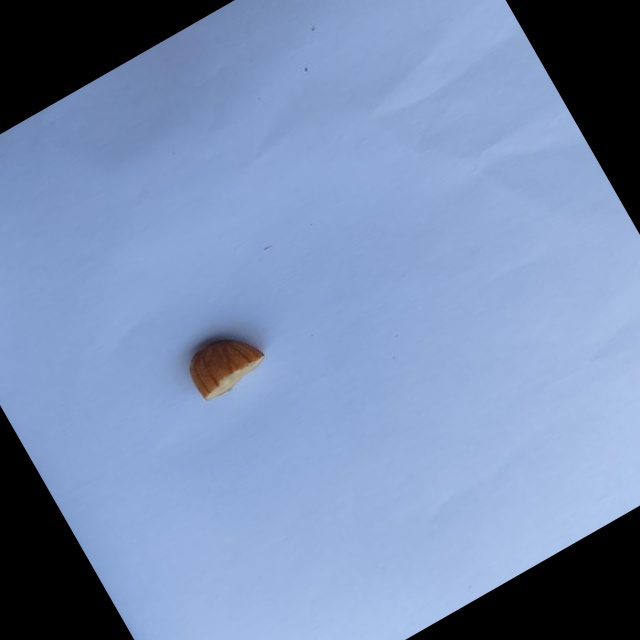grade4: (171, 312, 281, 411)
